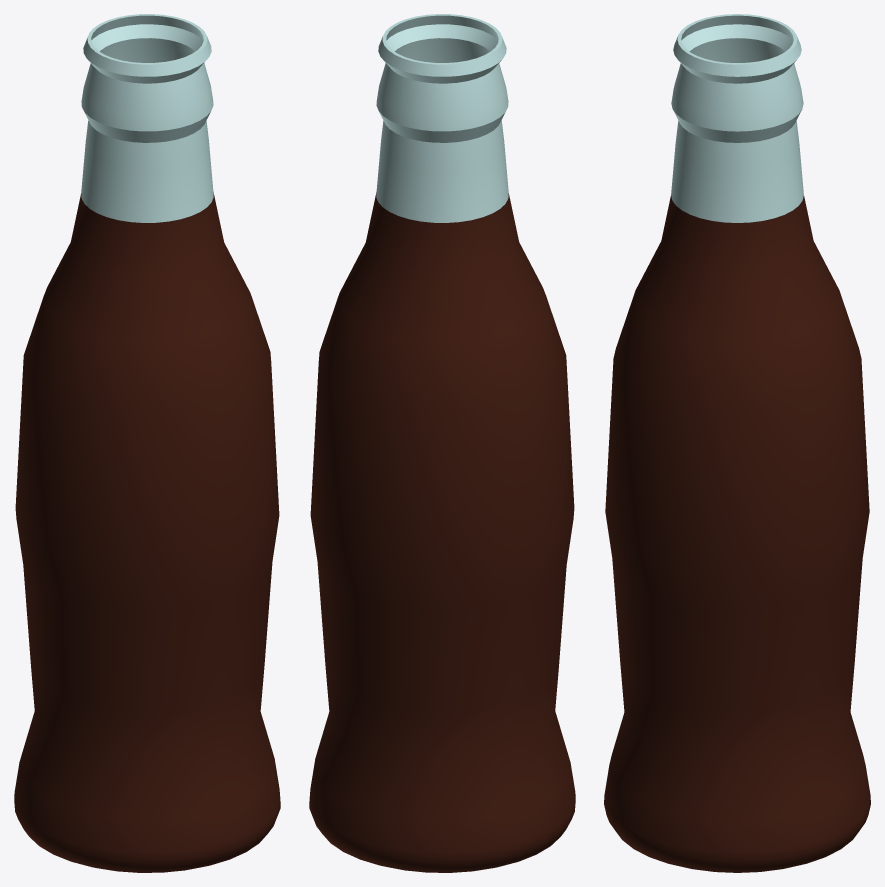
Rendered from BOTELLACocacola.fbx.
3 renders of one model, left to right at view 1: azimuth 30°, elevation 25°; view 2: azimuth 150°, elevation 25°; view 3: azimuth 270°, elevation 25°, orthographic.
Parts seen in each view (by area): view 1: botella; view 2: botella; view 3: botella.
Part boxes in pixels (x1,y1,x2,y2): botella: [14, 14, 280, 872]; botella: [309, 14, 575, 872]; botella: [604, 14, 870, 872].
Size of the model in its own units: 11.09 by 36.03 by 11.09.
